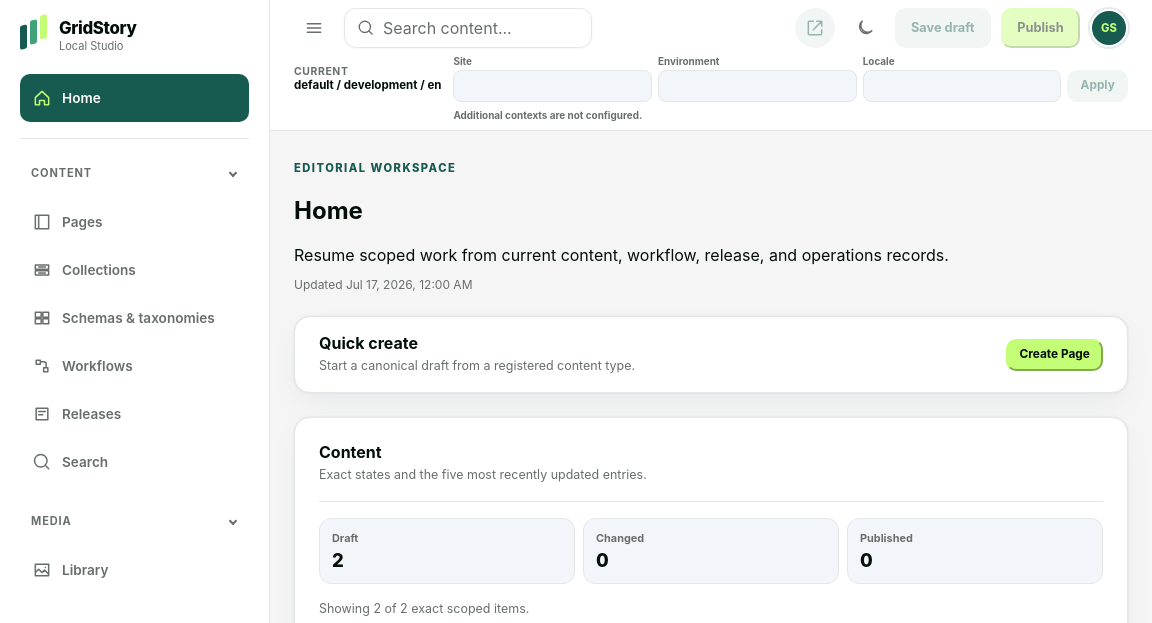
GridStory Studio › loads the scoped asset list when Library is opened from minimized Home
Click the button "Library" at {"x": 134, "y": 570}, box [20,546,249,594]
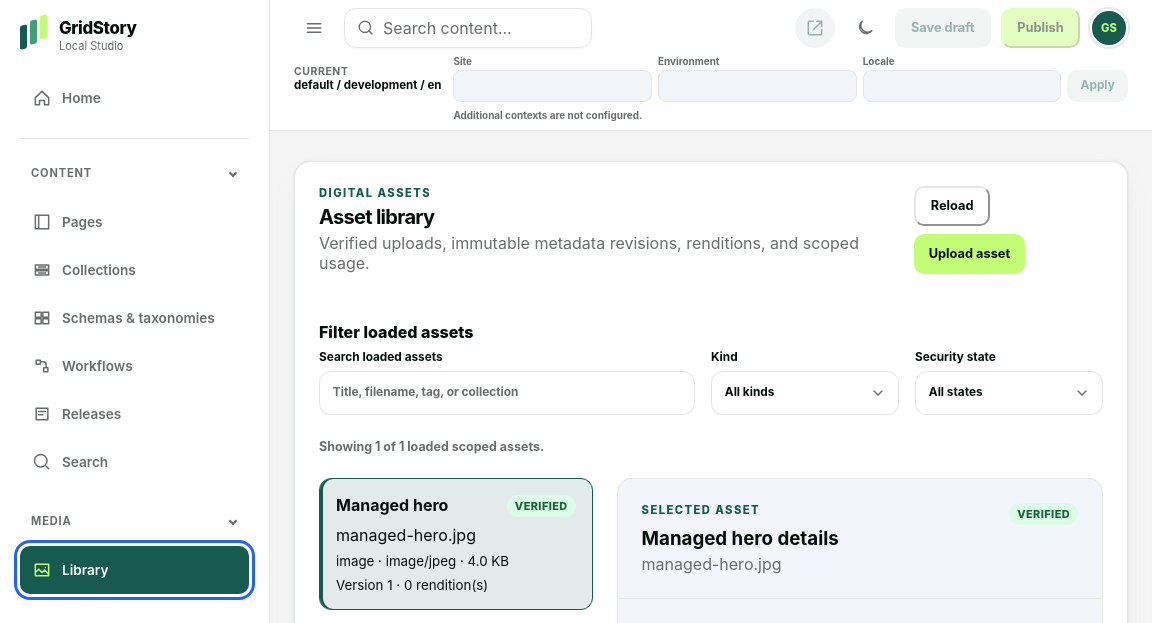
expect the heading "Managed hero details" is shown: met, box [642,527,839,550]
